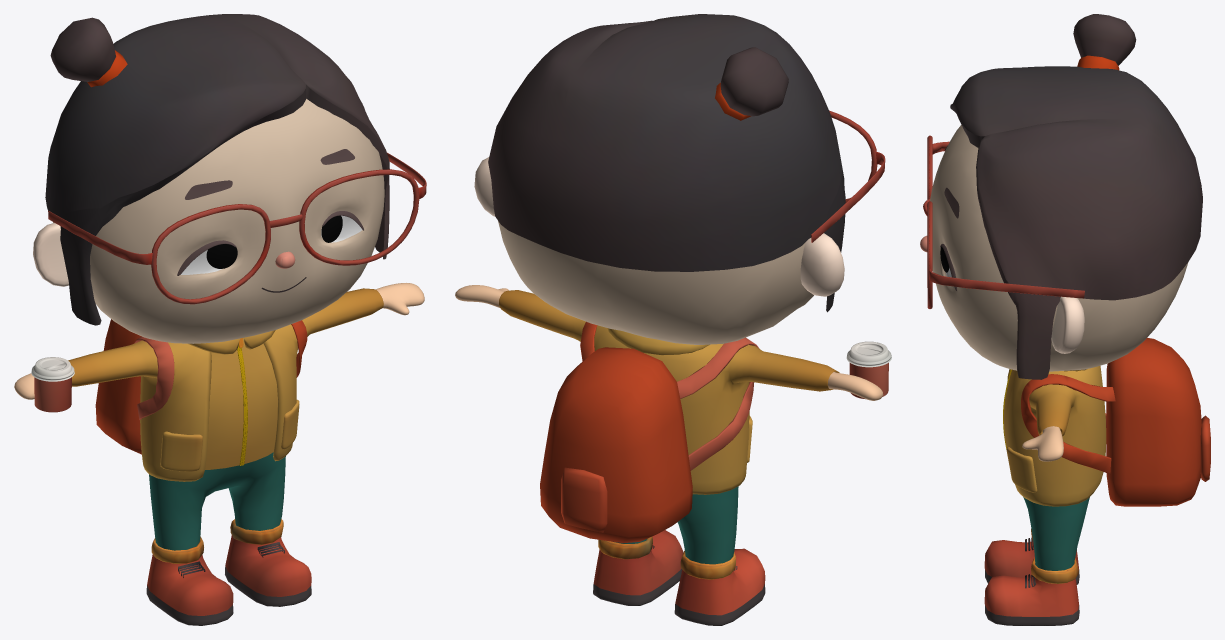
The model's file is 3c_Character.gltf.
3 views of the same model, side by side, from view 1: azimuth 30°, elevation 25°; view 2: azimuth 150°, elevation 25°; view 3: azimuth 270°, elevation 25° (orthographic). The views are drawn at different scales.
Parts seen in each view (by area): view 1: 3rd_Character; view 2: 3rd_Character; view 3: 3rd_Character.
Part boxes in pixels (x1,y1,x2,y2): 3rd_Character: (14,14,426,625); 3rd_Character: (455,14,891,625); 3rd_Character: (920,14,1210,625).
Bounding box in the file's own units: 2.37 × 3.2 × 1.58.
Materials: 1 (1 with a texture image).
